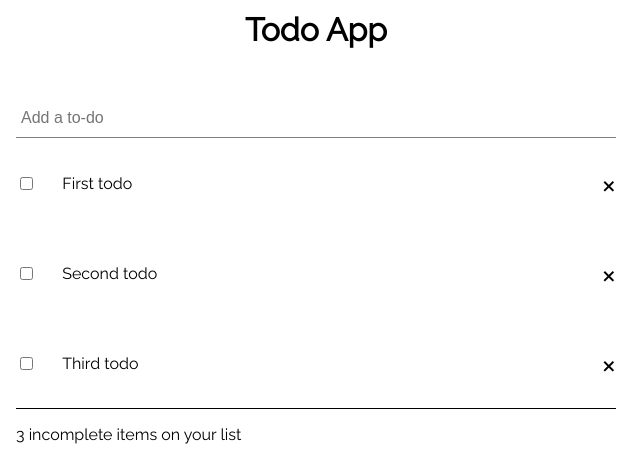
Test: ng Todo App › Remaining behavior › Should add one when a Todo is unchecked
Click the checkbox with class "todo-checkbox" next to "Third todo". click: (27, 364)
box: [20,357,33,370]
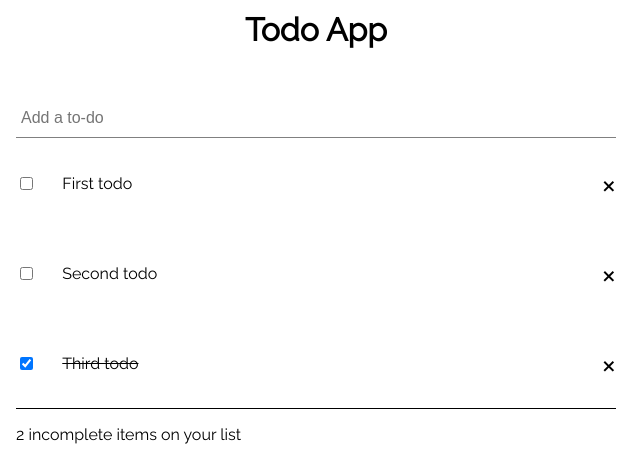
expect the text with class "remaining-count" reads "2": met, box [16,425,24,444]
Click the checkbox with class "todo-checkbox" next to "Third todo". click: (27, 364)
box: [20,357,33,370]
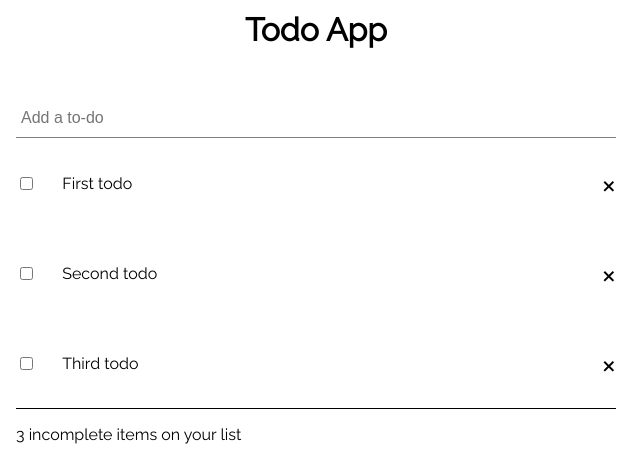
expect the text with class "remaining-count" reads "3": met, box [16,425,25,444]
